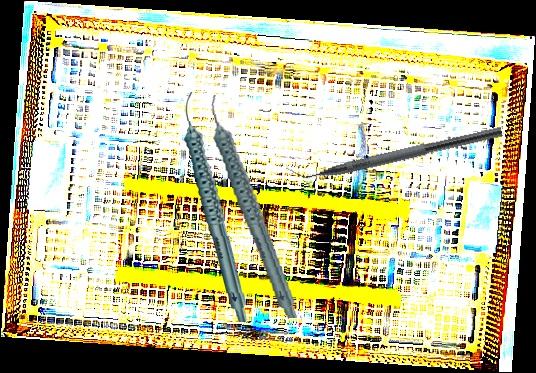Chopper: (285, 112, 503, 189)
Handpiece: (208, 88, 299, 325), (181, 91, 249, 323)
